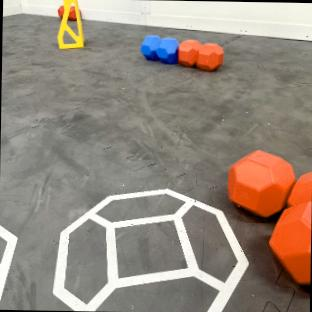V5_BLUE: (140, 35, 178, 62)
V5_RED: (270, 172, 311, 282), (227, 150, 294, 215), (178, 39, 222, 69), (69, 5, 76, 20)
